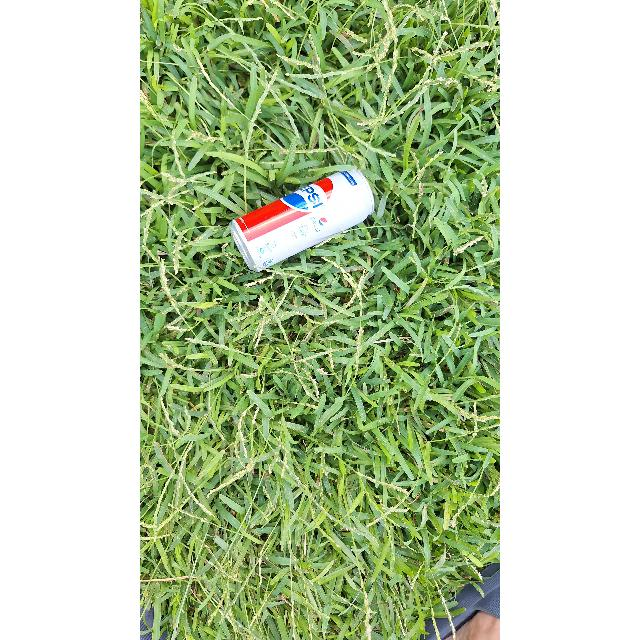Pepsi Retro: (228, 158, 374, 270)
